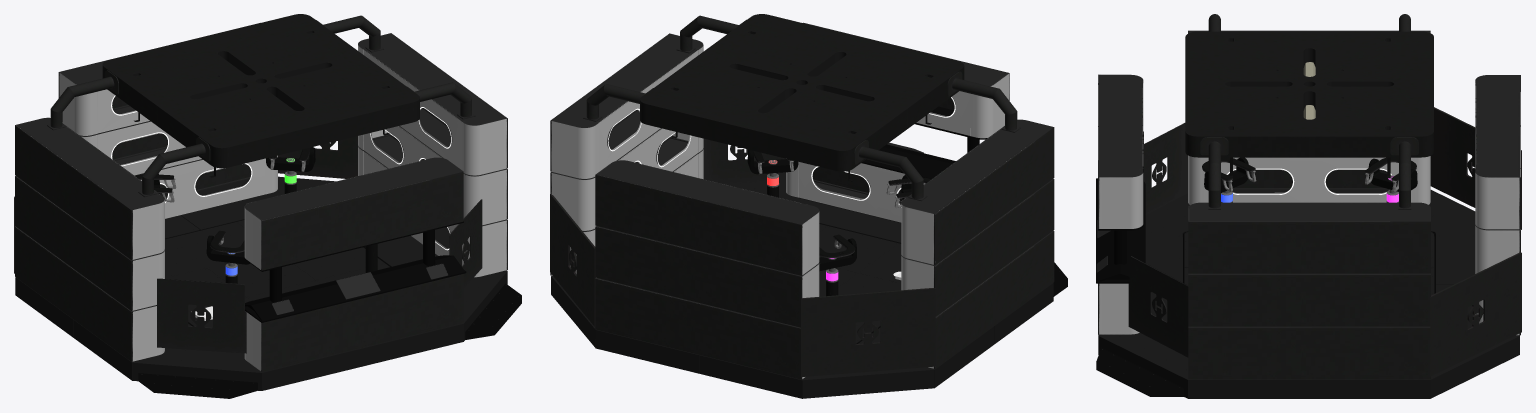
The model's file is hyperdeck.glb.
3 views of the same model, side by side, from view 1: azimuth 30°, elevation 25°; view 2: azimuth 150°, elevation 25°; view 3: azimuth 270°, elevation 25° (orthographic). The views are drawn at different scales.
Parts seen in each view (by area): view 1: N_Top_Wall, E_Top_Wall, N_Bottom_Wall, CeilingTile_NE, CeilingTile_NW, W_Top_Wall, E_Mid_Wall, E_Bottom_Wall, CeilingTile_SE, CeilingTile_SW, Door_NE, S_Bottom_Wall (+29 smaller); view 2: S_Top_Wall, E_Top_Wall, S_Mid_Wall, S_Bottom_Wall, Door_SE, CeilingTile_SE, CeilingTile_SW, W_Top_Wall, CeilingTile_NE, E_Mid_Wall, CeilingTile_NW, E_Bottom_Wall (+23 smaller); view 3: W_Top_Wall, W_Mid_Wall, W_Bottom_Wall, CeilingTile_NW, CeilingTile_SW, E_Bottom_Wall, Door_SW, S_Top_Wall, N_Top_Wall, CeilingTile_NE, CeilingTile_SE, Door_NW (+19 smaller).
Part boxes in pixels (x1,y1,x2,y2): N_Top_Wall: [244, 157, 463, 270]; E_Top_Wall: [15, 117, 164, 260]; N_Bottom_Wall: [244, 274, 463, 371]; CeilingTile_NE: [158, 82, 320, 168]; CeilingTile_NW: [264, 56, 419, 144]; W_Top_Wall: [358, 33, 507, 175]; E_Mid_Wall: [15, 175, 164, 310]; E_Bottom_Wall: [15, 226, 164, 361]; CeilingTile_SE: [102, 37, 258, 126]; CeilingTile_SW: [202, 14, 364, 83]; Door_NE: [156, 278, 246, 353]; S_Bottom_Wall: [115, 148, 277, 219]; S_Top_Wall: [595, 160, 819, 275]; E_Top_Wall: [901, 119, 1054, 264]; S_Mid_Wall: [595, 226, 819, 327]; S_Bottom_Wall: [595, 278, 804, 379]; Door_SE: [801, 288, 935, 376]; CeilingTile_SE: [741, 83, 907, 171]; CeilingTile_SW: [640, 57, 798, 147]; W_Top_Wall: [550, 33, 703, 179]; CeilingTile_NE: [805, 38, 964, 128]; E_Mid_Wall: [901, 179, 1054, 316]; CeilingTile_NW: [697, 14, 862, 84]; E_Bottom_Wall: [928, 230, 1054, 368]; W_Top_Wall: [1188, 202, 1430, 273]; W_Mid_Wall: [1188, 273, 1430, 326]; W_Bottom_Wall: [1188, 326, 1430, 379]; CeilingTile_NW: [1185, 84, 1310, 157]; CeilingTile_SW: [1309, 84, 1433, 157]; E_Bottom_Wall: [1188, 155, 1430, 204]; Door_SW: [1430, 252, 1521, 376]; S_Top_Wall: [1475, 75, 1520, 229]; N_Top_Wall: [1098, 74, 1143, 228]; CeilingTile_NE: [1185, 31, 1310, 86]; CeilingTile_SE: [1309, 31, 1433, 86]; Door_NW: [1128, 256, 1188, 357].
Bounding box in the file's own units: 5.53 × 2.96 × 5.2.
Materials: 30 (21 with a texture image).
